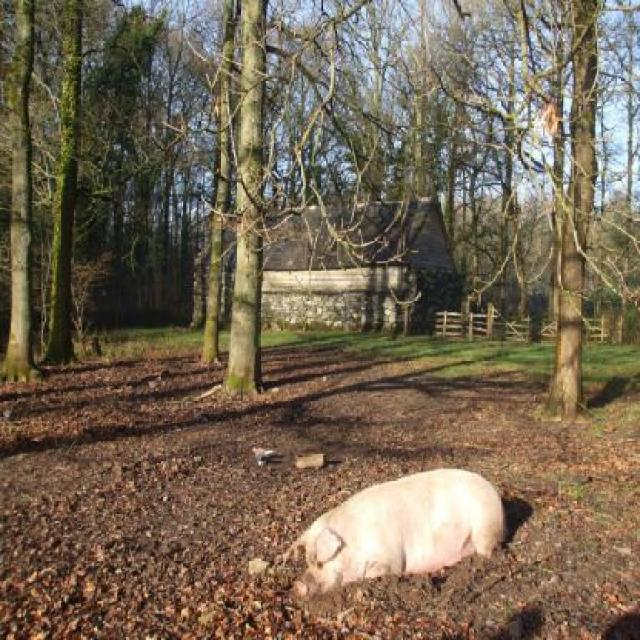pig: (280, 468, 508, 598)
